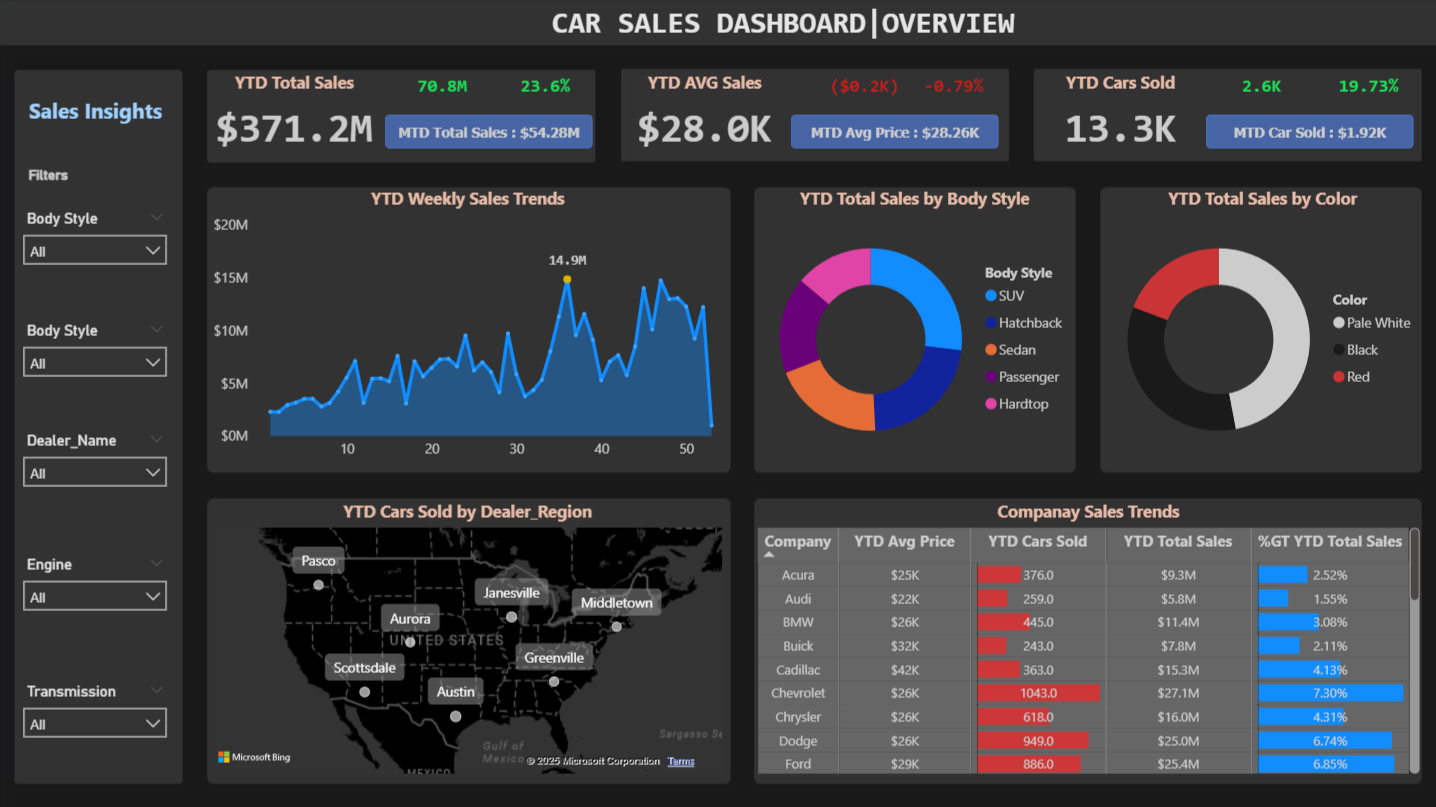

The page's visual inventory and layout, read from the dashboard file:
{"tool":"powerbi","page":{"name":"Overview","canvas":[1280,720],"ordinal":0},"visuals":[{"type":"card","title":"YTD Total Sales","fields":{"Values":["car_data.YTD Total Sales"]},"box":[183.8,64.2,161.5,77.8],"z":0},{"type":"card","title":"YTD Total Sales","fields":{"Values":["car_data.Sales Difference"]},"box":[364.7,64.2,62.2,25.3],"z":1000},{"type":"card","title":"YTD Total Sales","fields":{"Values":["car_data.YOY SAles"]},"box":[456.2,64.2,62.2,25.3],"z":2000},{"type":"card","title":"YTD Total Sales","fields":{"Values":["car_data.MTD KPI"]},"box":[345.3,103.1,184.1,30],"z":3000},{"type":"card","title":"YTD AVG Sales","fields":{"Values":["car_data.YTD Avg Price"]},"box":[552.5,64.2,151.7,77.8],"z":4000},{"type":"card","title":"YTD Total Sales","fields":{"Values":["car_data.Avg Price Difference"]},"box":[730.5,64.2,78.8,25.3],"z":5000},{"type":"card","title":"YTD Total Sales","fields":{"Values":["car_data.YoY Avg Price Growth"]},"box":[809.6,64.1,79.1,25],"z":6000},{"type":"card","title":"YTD Total Sales","fields":{"Values":["car_data.MTD Avg KPI"]},"box":[704.6,103.1,184.1,30],"z":7000},{"type":"card","title":"YTD Cars Sold","fields":{"Values":["car_data.YTD Cars Sold"]},"box":[921.3,63.8,151.6,78],"z":8000},{"type":"card","title":"YTD Total Sales","fields":{"Values":["car_data.Car Sold Diference"]},"box":[1082.8,64.1,79.1,25],"z":9000},{"type":"card","title":"YTD Total Sales","fields":{"Values":["car_data.YoY Car Sold Growth"]},"box":[1177.9,64.1,79.1,25],"z":10000},{"type":"card","title":"YTD Total Sales","fields":{"Values":["car_data.MTD Cars Sold KPI"]},"box":[1072.8,103.1,184.1,30],"z":11000},{"type":"areaChart","title":"YTD Weekly Sales Trends","fields":{"Category":["Calender.Week"],"Y":["Sum(car_data.Price ($))","car_data.Max Point Area Chart"]},"box":[187.1,167.1,462.4,251.2],"z":12000},{"type":"donutChart","fields":{"Y":["car_data.YTD Total Sales"],"Category":["car_data.Body Style"]},"box":[669.5,167.1,290.2,251.2],"z":13000},{"type":"donutChart","fields":{"Y":["car_data.YTD Total Sales"],"Category":["car_data.Color"]},"box":[977.8,167.1,290.2,251.2],"z":14000},{"type":"map","fields":{"Category":["car_data.Dealer_Region"],"Size":["car_data.YTD Cars Sold"]},"box":[186.7,444.5,462,248],"z":15000},{"type":"tableEx","title":"Companay Sales Trends","fields":{"Values":["car_data.Company","car_data.YTD Avg Price","car_data.YTD Cars Sold","car_data.YTD Total Sales1","car_data.YTD Total Sales"]},"box":[669.2,444.5,598.2,248],"z":16000},{"type":"textbox","box":[487.3,0,446.4,42.8],"z":17000},{"type":"slicer","fields":{"Values":["car_data.Body Style"]},"box":[14.6,282.1,146.9,65.2],"z":18000},{"type":"slicer","fields":{"Values":["car_data.Dealer_Name"]},"box":[14.6,379.3,146.9,65.2],"z":19000},{"type":"slicer","fields":{"Values":["car_data.Engine"]},"box":[14.6,489.2,146.9,65.2],"z":20000},{"type":"slicer","fields":{"Values":["car_data.Transmission"]},"box":[14.6,602.1,146.9,65.2],"z":21000},{"type":"textbox","box":[24.3,81.7,128.4,36],"z":22000},{"type":"slicer","fields":{"Values":["car_data.Body Style"]},"box":[14.6,182.9,146.9,65.2],"z":23000},{"type":"textbox","box":[14.6,142,64.2,34],"z":24000}]}

Visuals, with their boxes in screenshot pixels (x1, y1, x2, y2), scaled from the page's 1280x720 canvas onto the 1436x807 screenshot:
"YTD Total Sales" card: (206, 72, 387, 159)
"YTD Total Sales" card: (409, 72, 479, 100)
"YTD Total Sales" card: (512, 72, 582, 100)
"YTD Total Sales" card: (387, 116, 594, 149)
"YTD AVG Sales" card: (620, 72, 790, 159)
"YTD Total Sales" card: (820, 72, 908, 100)
"YTD Total Sales" card: (908, 72, 997, 100)
"YTD Total Sales" card: (790, 116, 997, 149)
"YTD Cars Sold" card: (1034, 72, 1204, 159)
"YTD Total Sales" card: (1215, 72, 1304, 100)
"YTD Total Sales" card: (1321, 72, 1410, 100)
"YTD Total Sales" card: (1204, 116, 1410, 149)
"YTD Weekly Sales Trends" areaChart: (210, 187, 729, 469)
donutChart - car_data.YTD Total Sales x car_data.Body Style: (751, 187, 1077, 469)
donutChart - car_data.YTD Total Sales x car_data.Color: (1097, 187, 1423, 469)
map - car_data.Dealer_Region x car_data.YTD Cars Sold: (209, 498, 728, 776)
"Companay Sales Trends" tableEx: (751, 498, 1422, 776)
textbox: (547, 0, 1047, 48)
slicer - car_data.Body Style: (16, 316, 181, 389)
slicer - car_data.Dealer_Name: (16, 425, 181, 498)
slicer - car_data.Engine: (16, 548, 181, 621)
slicer - car_data.Transmission: (16, 675, 181, 748)
textbox: (27, 92, 171, 132)
slicer - car_data.Body Style: (16, 205, 181, 278)
textbox: (16, 159, 88, 197)
